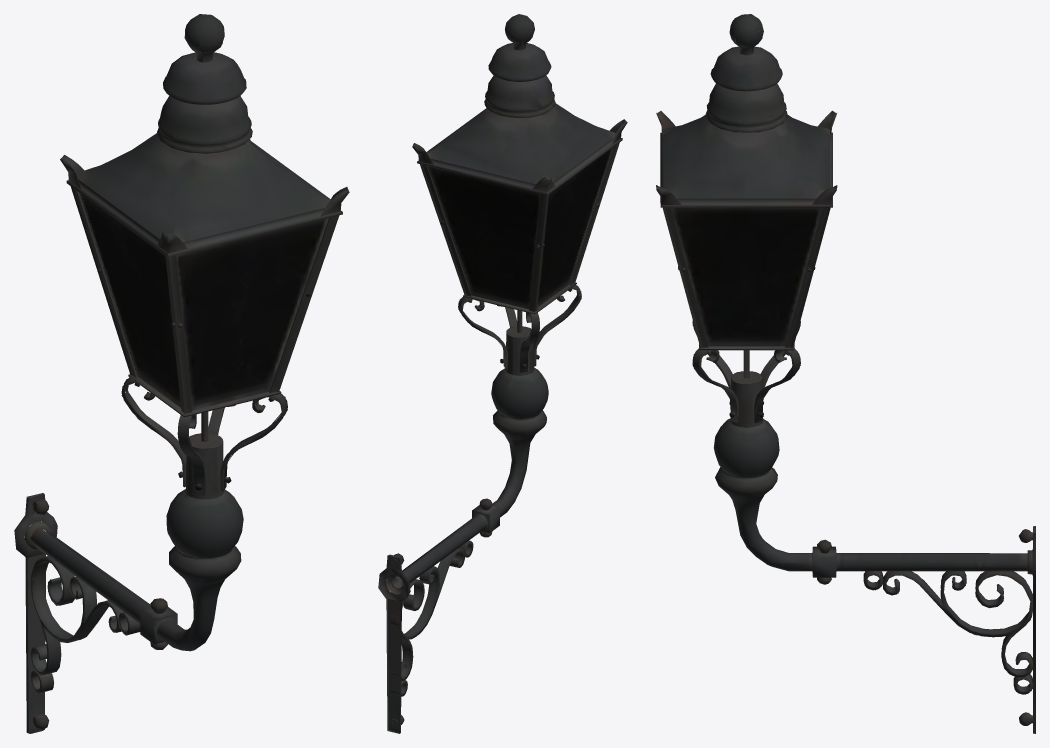
The model's file is street_lamp_02.glb.
3 renders of one model, left to right at view 1: azimuth 30°, elevation 25°; view 2: azimuth 150°, elevation 25°; view 3: azimuth 270°, elevation 25°, orthographic. The views are drawn at different scales.
Parts seen in each view (by area): view 1: street_lamp_02; view 2: street_lamp_02; view 3: street_lamp_02.
Part boxes in pixels (bbox=[...]): street_lamp_02: bbox=[14, 14, 349, 733]; street_lamp_02: bbox=[378, 14, 627, 733]; street_lamp_02: bbox=[656, 14, 1035, 733].
Size of the model in its own units: 0.3847 by 1.67 by 0.8059.
3 materials, 3 textured.
